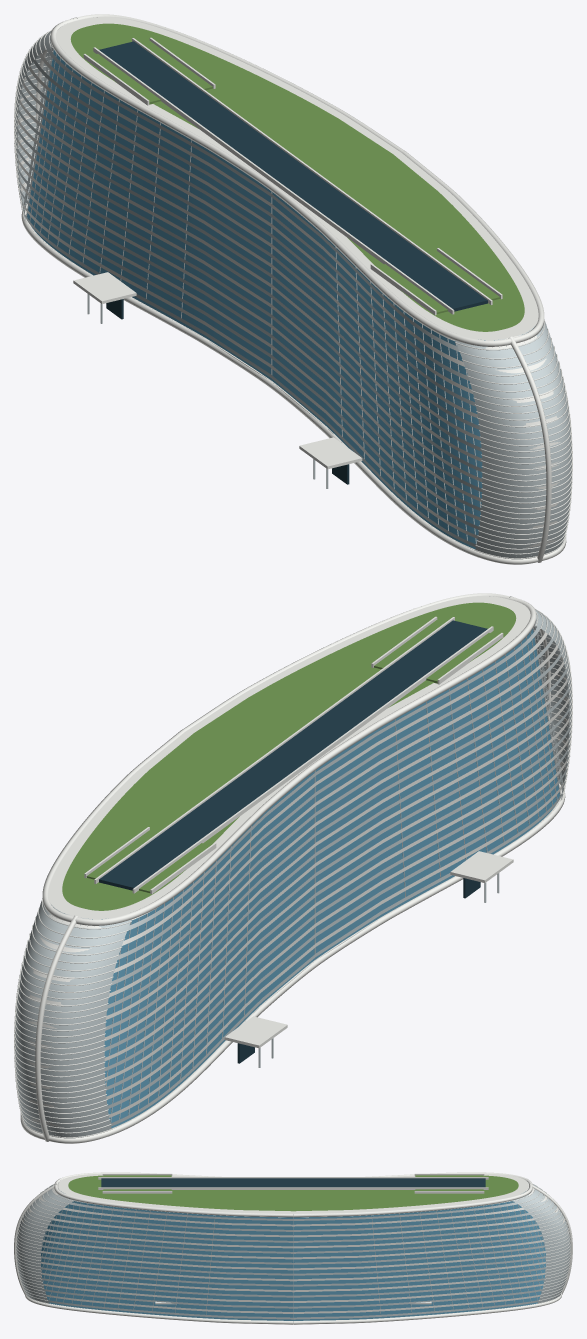
Rendered from slab-0.glb.
The picture shows the model from 3 angles, top to bottom: view 1: azimuth 30°, elevation 25°; view 2: azimuth 150°, elevation 25°; view 3: azimuth 270°, elevation 25°; orthographic projection. The views are drawn at different scales.
Size of the model in its own units: 4.18 by 4.03 by 18.06.
